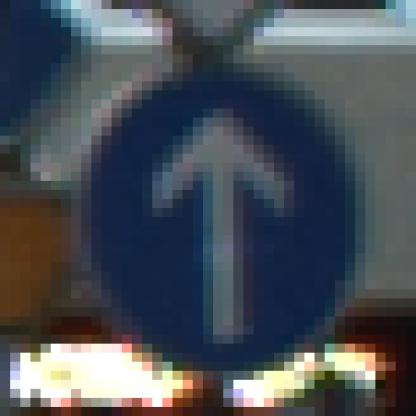AheadOnly: (52, 46, 356, 372)
